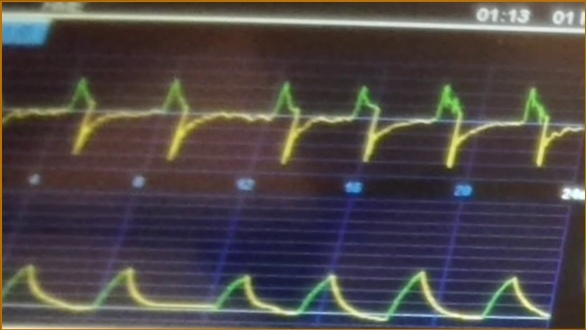Accumulation Flow: (7, 61, 580, 171)
Volume: (4, 242, 551, 323)
